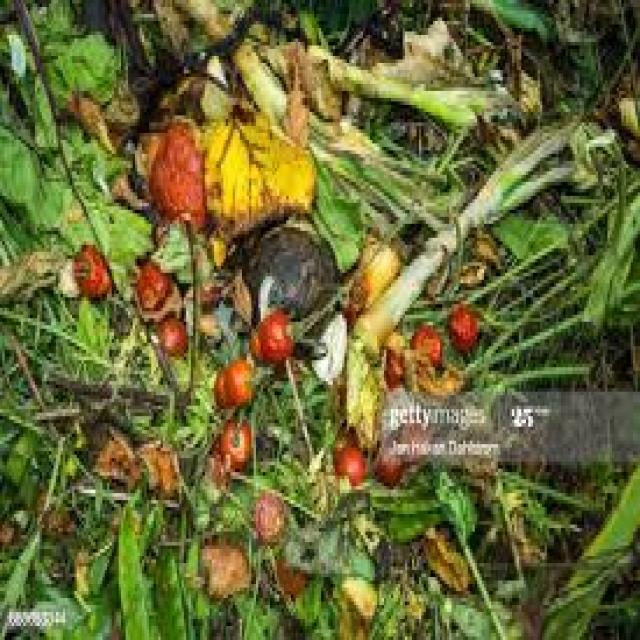biodegradable: (0, 0, 638, 637), (349, 115, 610, 357), (268, 35, 473, 129), (542, 455, 638, 637), (200, 98, 319, 241), (226, 210, 333, 339), (5, 0, 116, 98), (79, 0, 167, 94), (368, 465, 472, 539), (377, 322, 458, 402), (149, 116, 205, 228), (370, 21, 468, 84), (466, 0, 612, 42), (335, 224, 400, 311), (228, 35, 289, 119), (412, 514, 475, 591), (410, 80, 519, 119), (342, 336, 377, 444), (126, 434, 177, 500), (84, 420, 137, 483), (200, 528, 249, 595), (5, 430, 54, 493), (144, 0, 193, 63), (330, 563, 377, 616), (198, 46, 230, 123), (307, 311, 342, 381), (130, 252, 170, 308), (210, 353, 252, 406), (70, 238, 109, 294), (247, 483, 284, 542), (368, 420, 396, 490), (219, 409, 249, 469), (331, 427, 363, 483), (37, 486, 70, 539), (396, 413, 431, 462), (100, 81, 135, 130), (445, 297, 477, 350), (0, 503, 30, 559), (268, 546, 305, 588), (258, 311, 291, 357), (405, 318, 440, 360), (154, 311, 186, 353), (177, 0, 219, 31), (200, 434, 224, 483), (382, 336, 400, 378)
